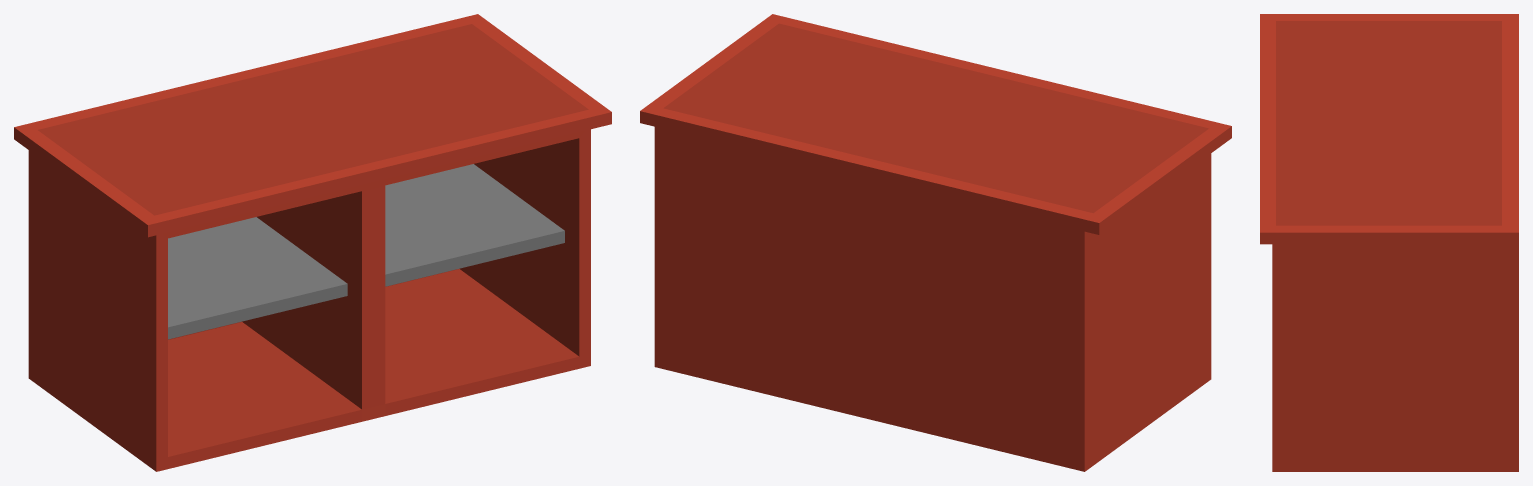
Rendered from Int_KitchenServDesk01.fbx.
The picture shows the model from 3 angles, left to right: view 1: azimuth 30°, elevation 25°; view 2: azimuth 150°, elevation 25°; view 3: azimuth 270°, elevation 25°; orthographic projection. The views are drawn at different scales.
Visible parts, largest first — view 1: Int_KitchenServDesk01; view 2: Int_KitchenServDesk01; view 3: Int_KitchenServDesk01.
Boxes of the visible parts, bbox=[...] form: Int_KitchenServDesk01: bbox=[14, 14, 611, 471]; Int_KitchenServDesk01: bbox=[640, 14, 1231, 471]; Int_KitchenServDesk01: bbox=[1260, 14, 1518, 471].
Size of what is drawn, in the model's own units: 200 by 100 by 105.
